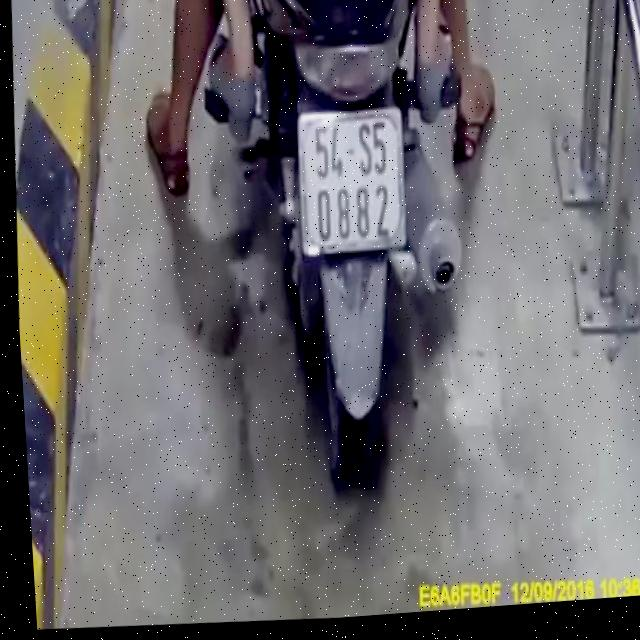motorcycle: (205, 0, 493, 502)
plate: (287, 100, 417, 257)
